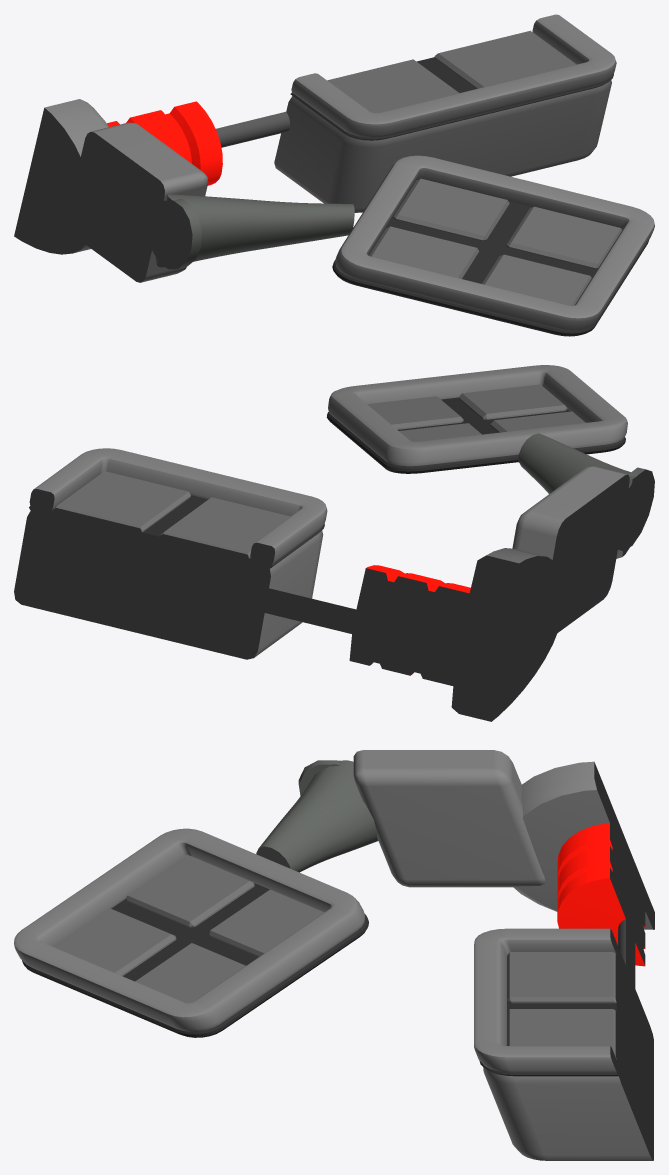
Rendered from station_l_br.glb.
The picture shows the model from 3 angles, top to bottom: view 1: azimuth 30°, elevation 25°; view 2: azimuth 150°, elevation 25°; view 3: azimuth 270°, elevation 25°; orthographic projection. The views are drawn at different scales.
Visible parts, largest first — view 1: station_l_br; view 2: station_l_br; view 3: station_l_br.
Boxes of the visible parts, <box> form: station_l_br: <box>14,14,654,336</box>; station_l_br: <box>14,365,654,721</box>; station_l_br: <box>14,750,654,1160</box>.
Bounding box in the file's own units: 23.6 × 7 × 25.04.
